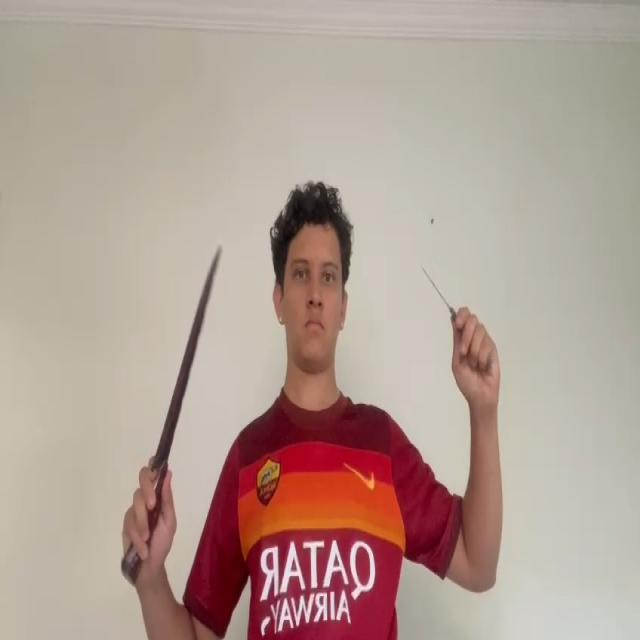knife: (153, 245, 225, 468)
